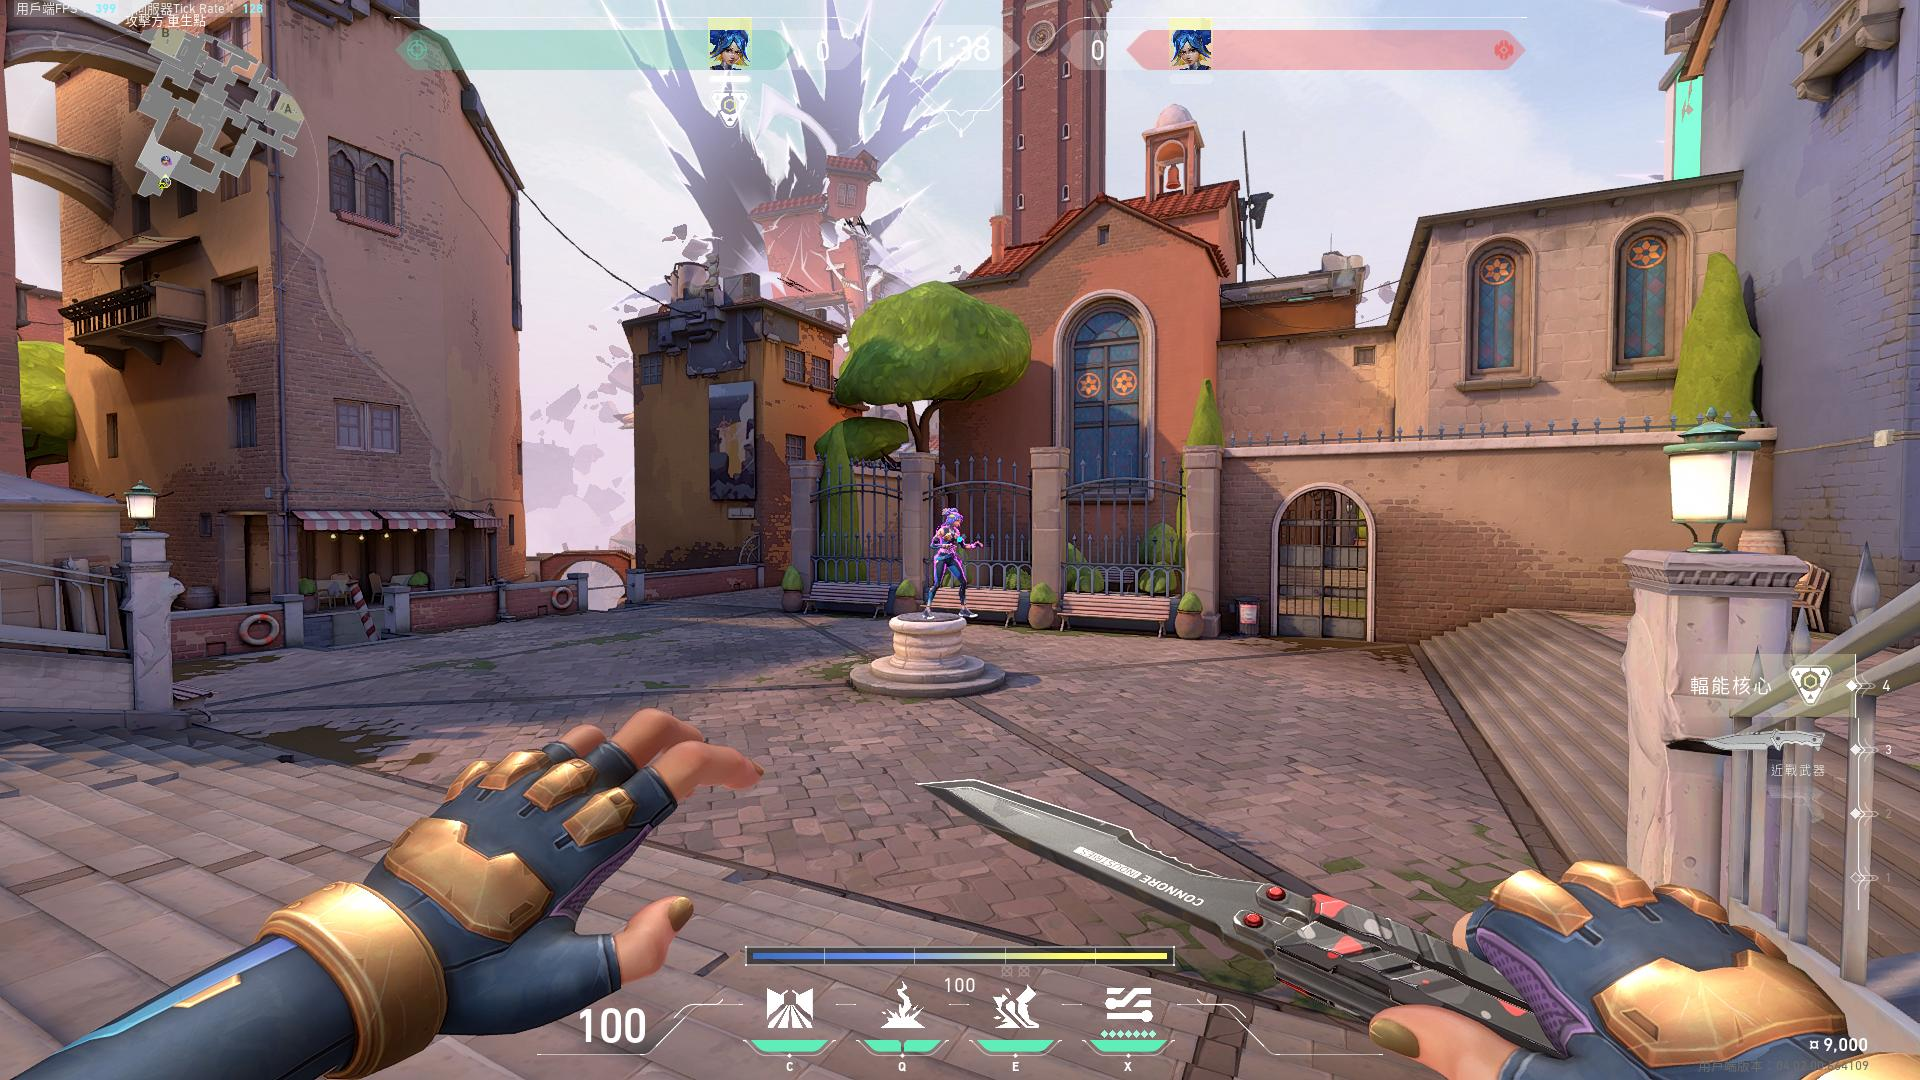enemyBody: (935, 533, 971, 563)
enemyHead: (945, 514, 964, 531)
